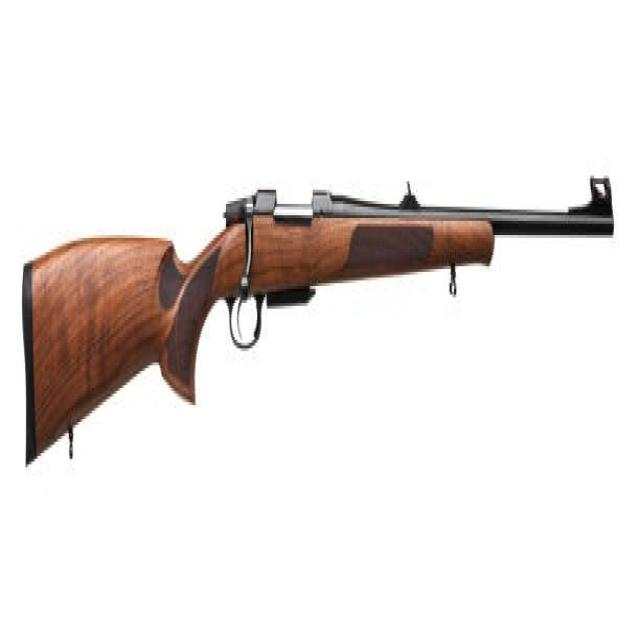rifle: (17, 153, 620, 481)
